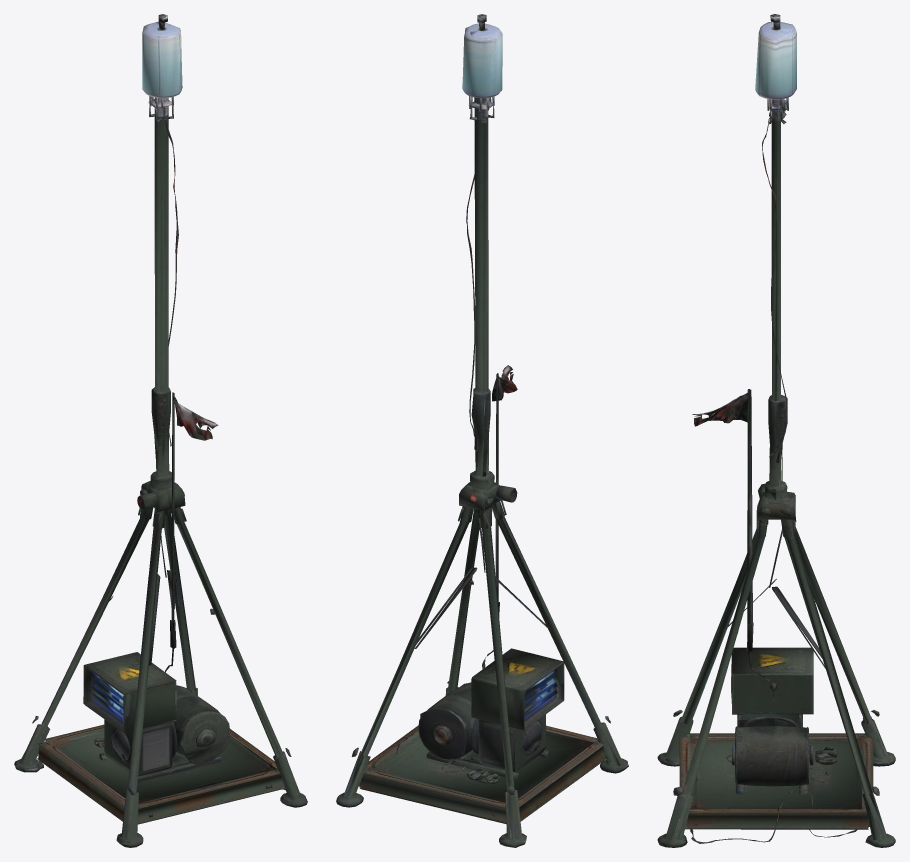
File: s_rally.glb
3 views of the same model, side by side, from view 1: azimuth 30°, elevation 25°; view 2: azimuth 150°, elevation 25°; view 3: azimuth 270°, elevation 25° (orthographic). The views are drawn at different scales.
Size of the model in its own units: 0.2056 by 0.8027 by 0.2202.
Materials: 1 (1 with a texture image).
